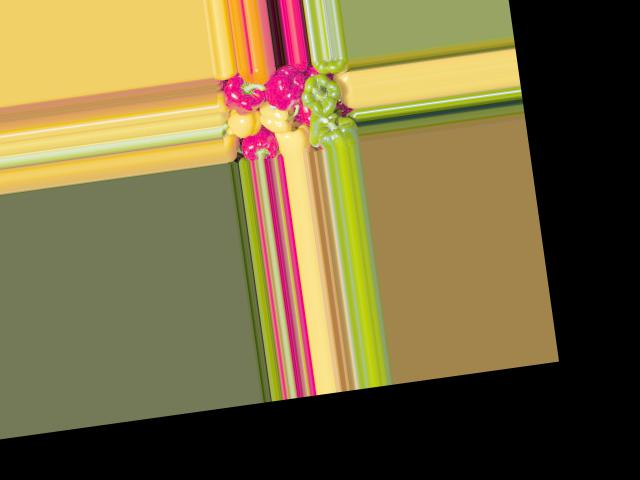bell_pepper: (311, 55, 350, 81)
